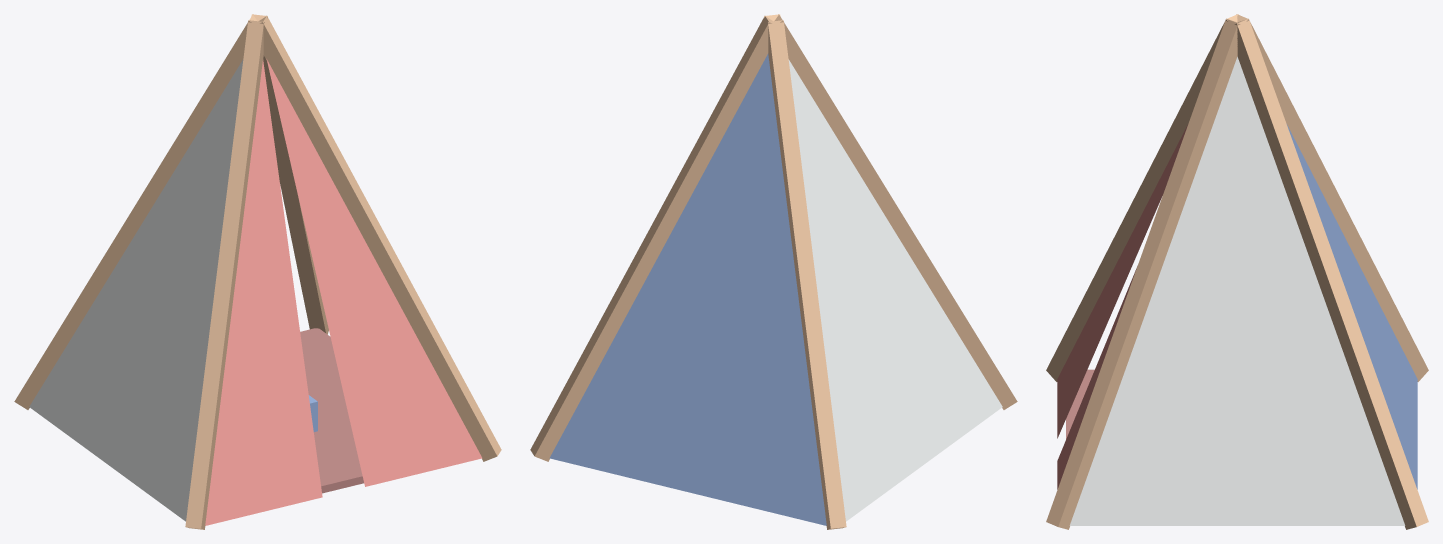
File: playTent.glb
The picture shows the model from 3 angles, left to right: view 1: azimuth 30°, elevation 25°; view 2: azimuth 150°, elevation 25°; view 3: azimuth 270°, elevation 25°; orthographic projection. The views are drawn at different scales.
Parts seen in each view (by area): view 1: playTent; view 2: playTent; view 3: playTent.
Part boxes in pixels (left/top/right/bottom): playTent: left=14, top=14, right=501, bottom=529; playTent: left=530, top=14, right=1017, bottom=529; playTent: left=1046, top=14, right=1428, bottom=529.
Size of the model in its own units: 0.4466 by 0.5595 by 0.4466.
